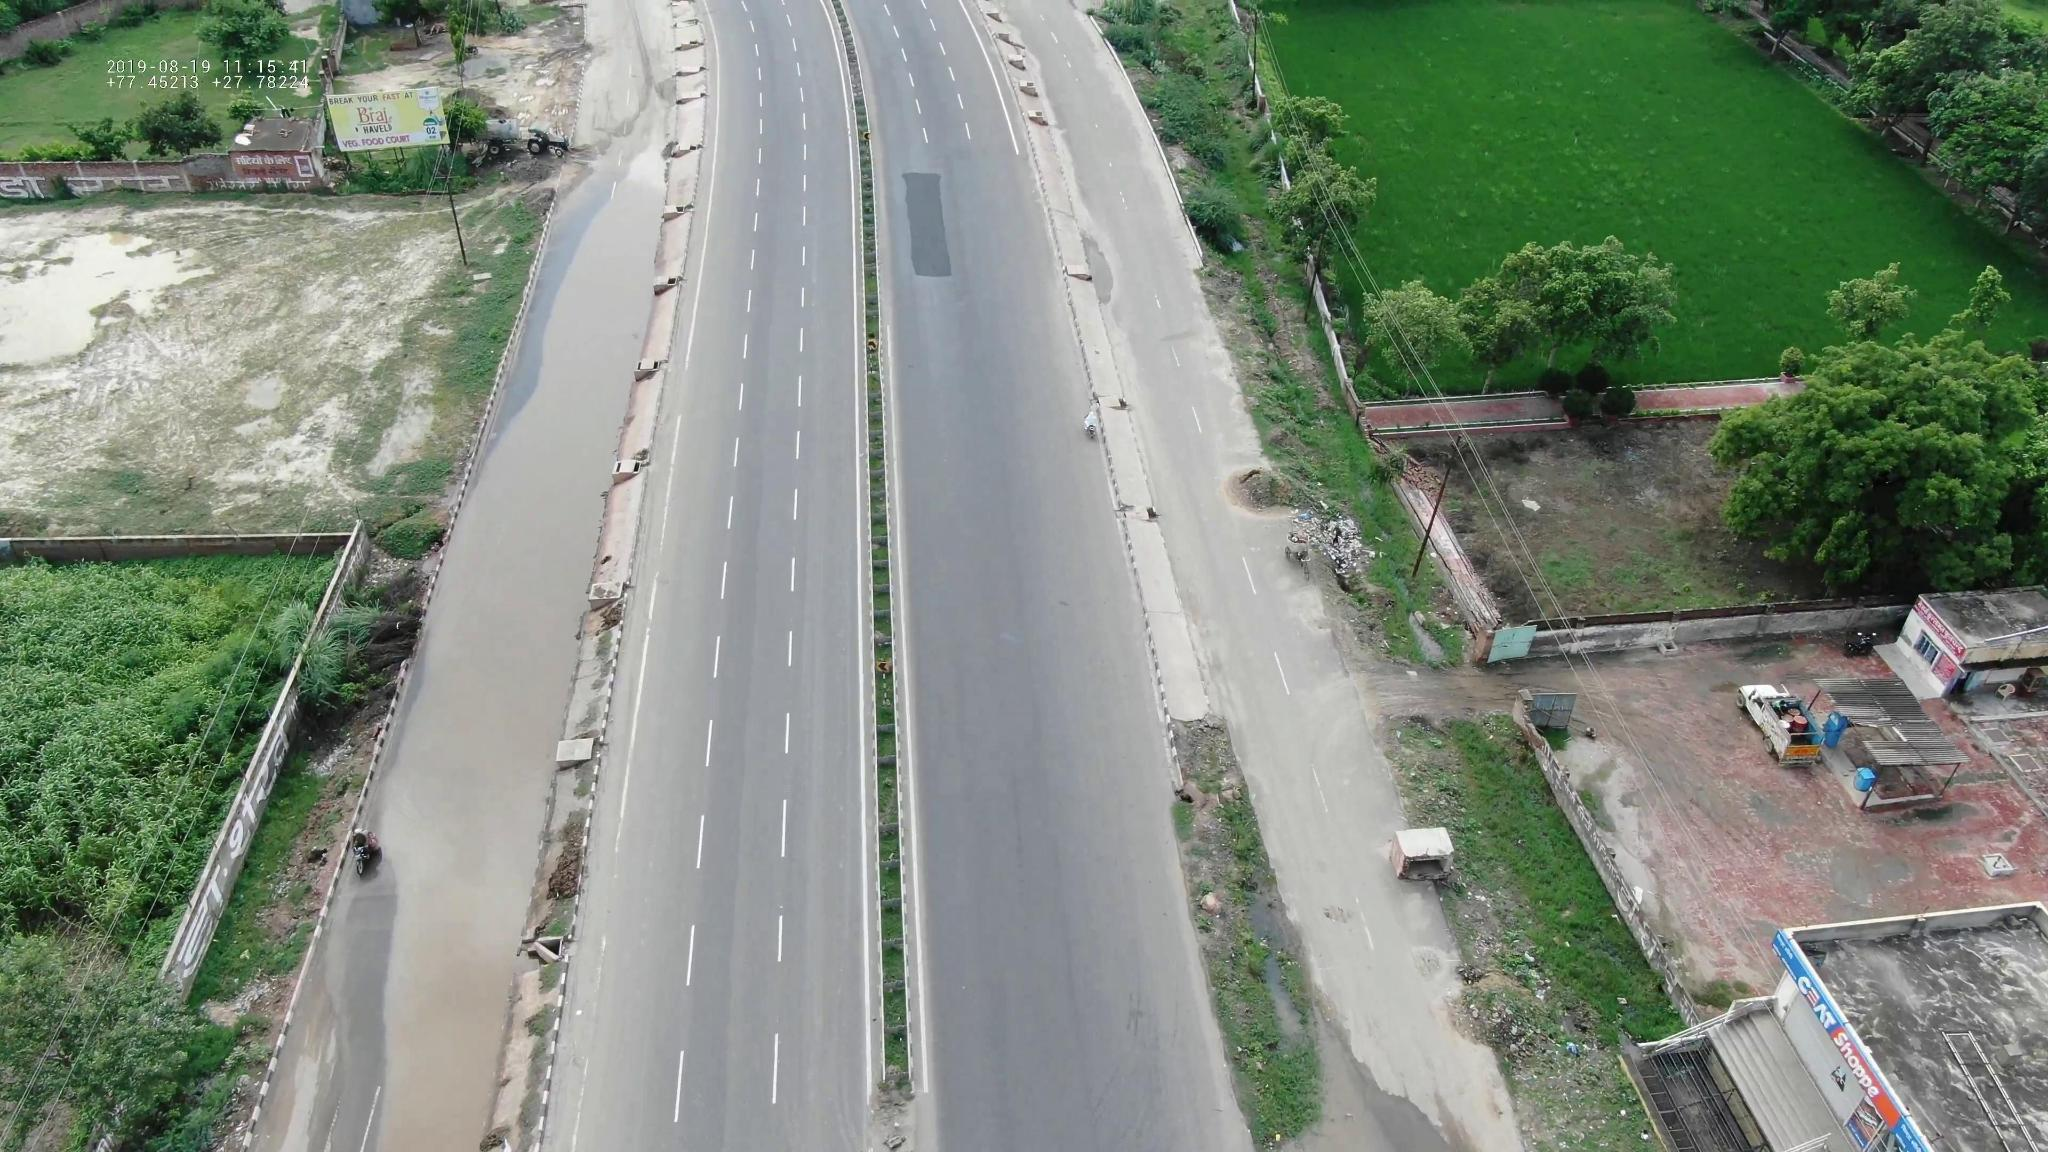Waterlogging: (401, 456, 608, 1044), (526, 158, 677, 454)
